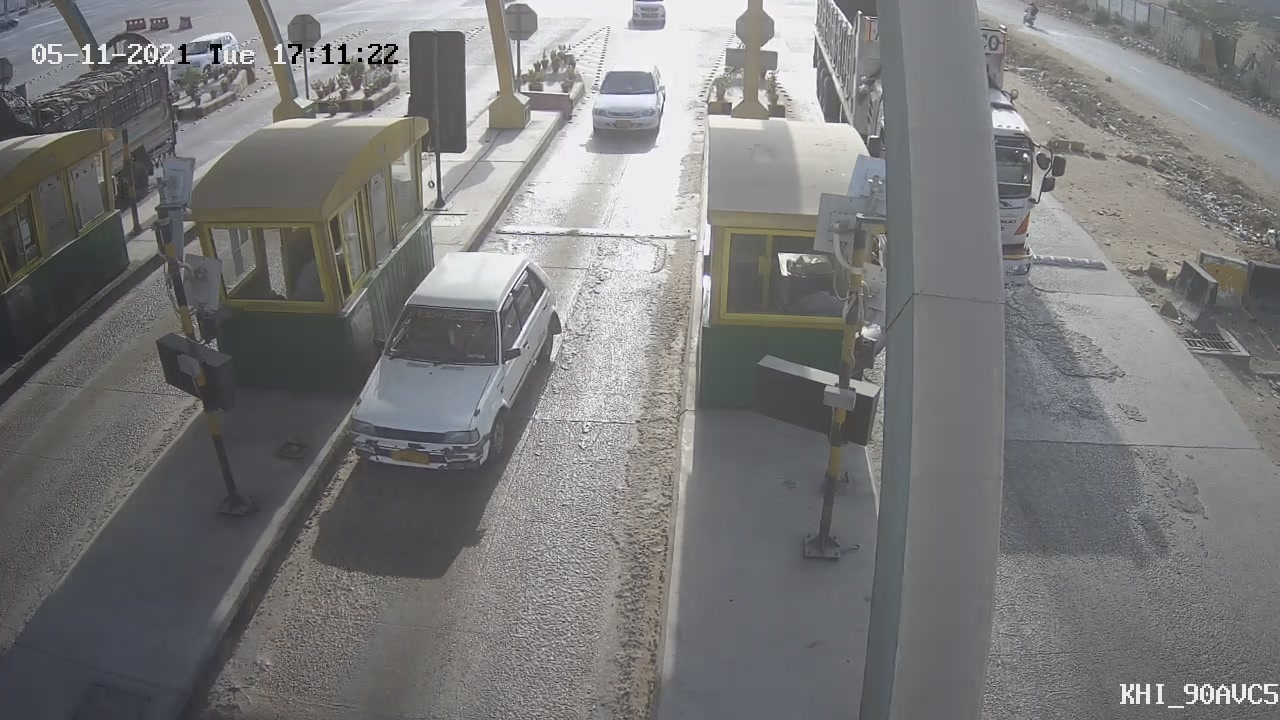F1: (314, 235, 592, 496), (570, 52, 681, 149)
